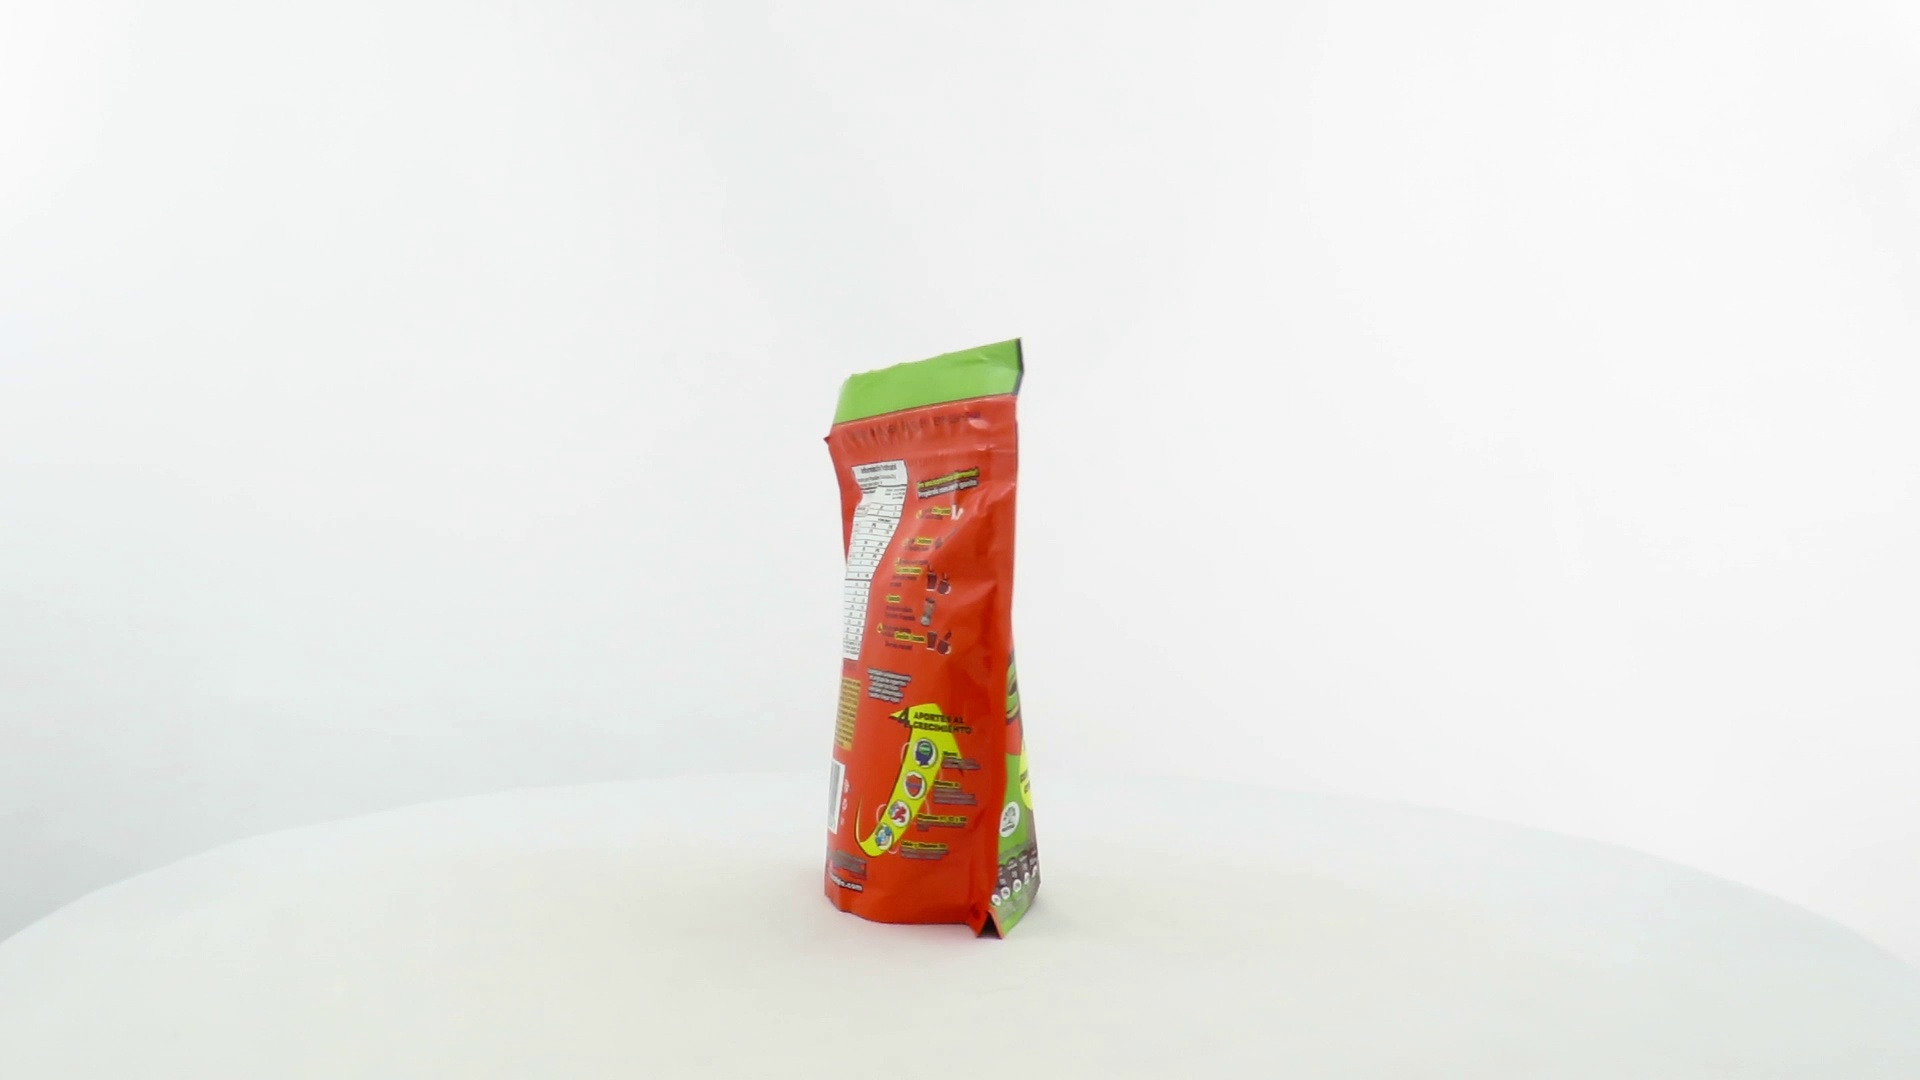COL0170102DYP10000: (819, 334, 1047, 945)
